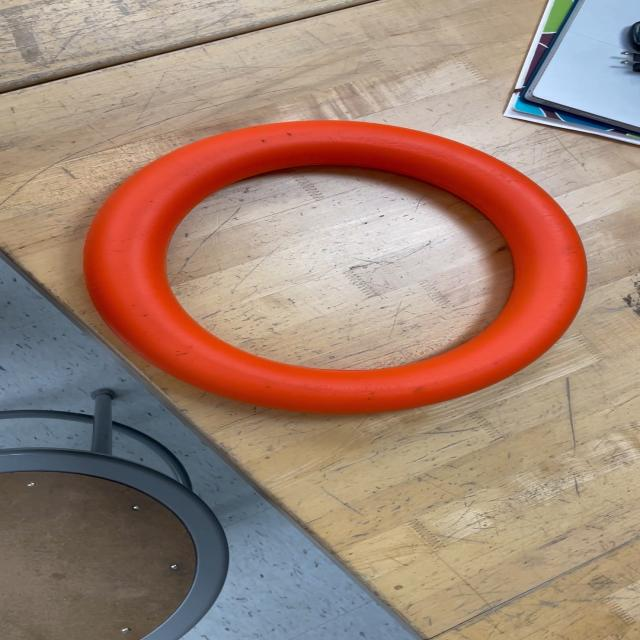note: (81, 120, 591, 416)
